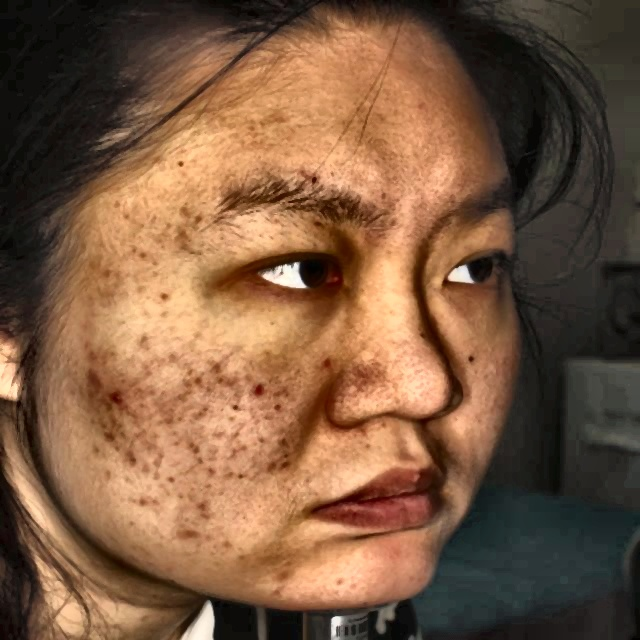pustule: (101, 387, 128, 410), (117, 449, 144, 472), (270, 562, 293, 586), (182, 435, 208, 455), (79, 366, 101, 388), (183, 522, 205, 543), (81, 343, 104, 363)
